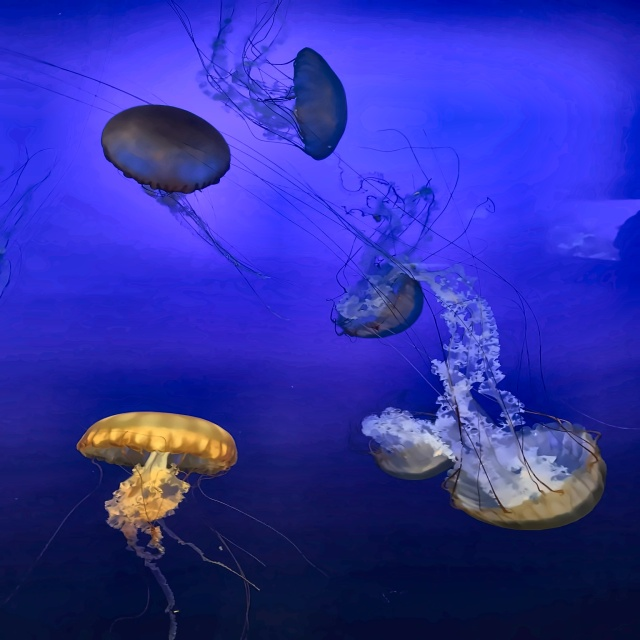jellyfish: (452, 422, 606, 532), (102, 103, 231, 194), (76, 410, 238, 475), (289, 46, 350, 162), (338, 271, 428, 343), (365, 427, 459, 481)
